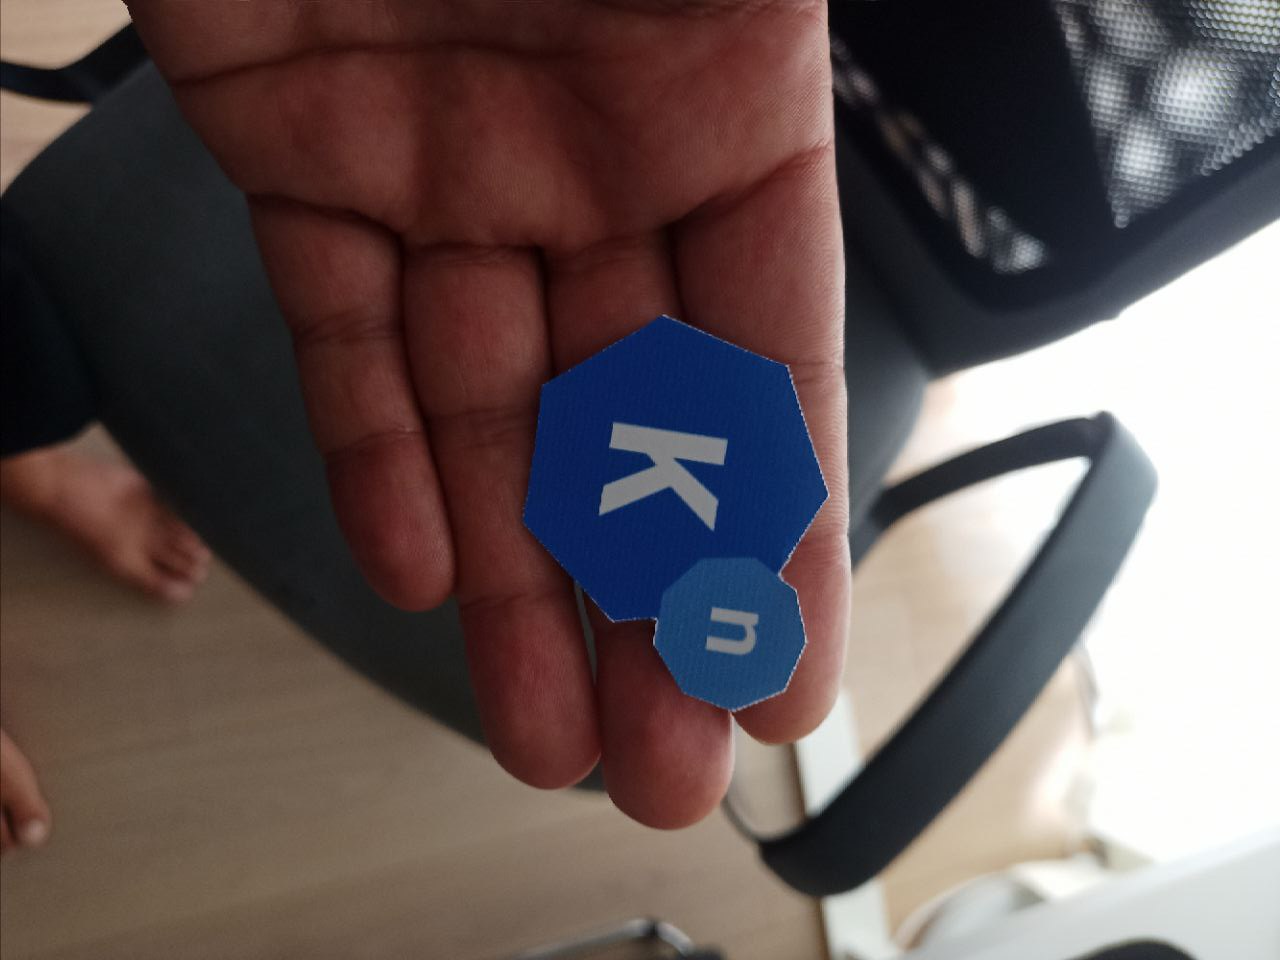knative: (525, 307, 836, 715)
